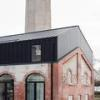chimneys: (25, 0, 51, 33)
